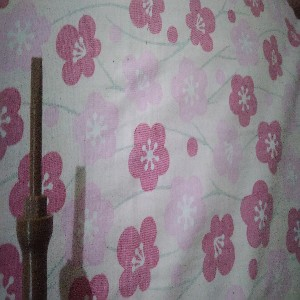obeng: (15, 55, 55, 300)
